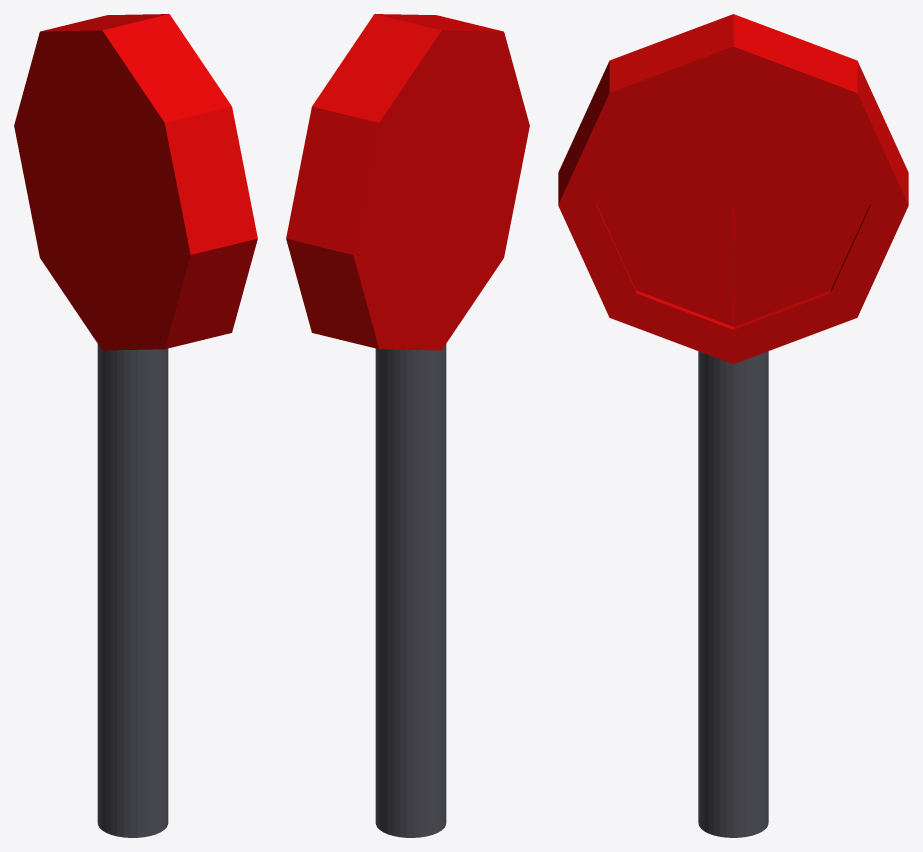
The model's file is stop_sign.fbx.
3 views of the same model, side by side, from view 1: azimuth 30°, elevation 25°; view 2: azimuth 150°, elevation 25°; view 3: azimuth 270°, elevation 25° (orthographic).
Visible parts, largest first — view 1: Cylinder.001, Cylinder; view 2: Cylinder.001, Cylinder; view 3: Cylinder.001, Cylinder.
Boxes of the visible parts, bbox=[...] form: Cylinder.001: bbox=[14, 14, 257, 350]; Cylinder: bbox=[97, 344, 168, 837]; Cylinder.001: bbox=[286, 14, 529, 350]; Cylinder: bbox=[375, 344, 446, 837]; Cylinder.001: bbox=[558, 14, 908, 364]; Cylinder: bbox=[698, 203, 768, 837].
Size of the model in its own units: 11 by 125 by 50.
